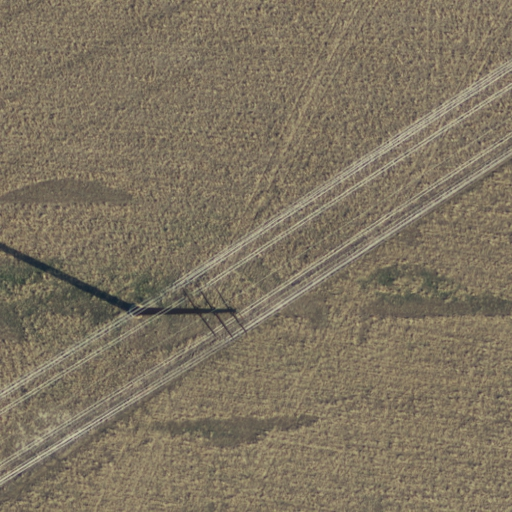TT: (125, 281, 253, 346)
